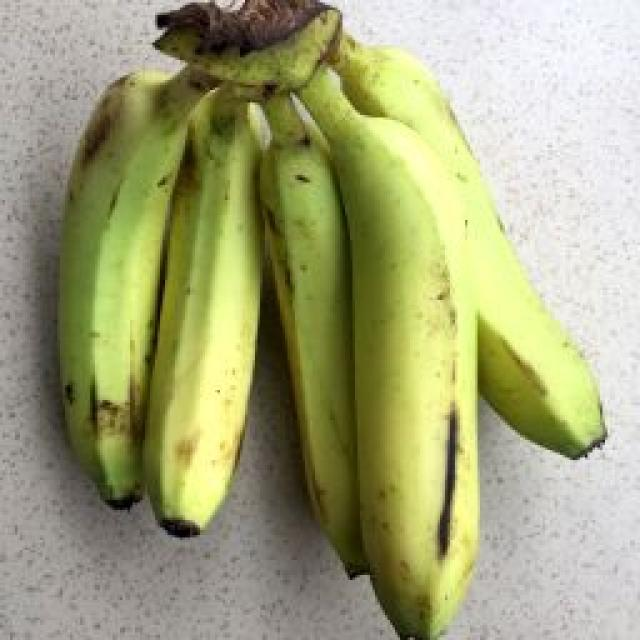banana: (335, 35, 606, 458), (300, 68, 479, 639), (59, 70, 206, 506), (144, 89, 260, 536), (260, 94, 366, 576)
